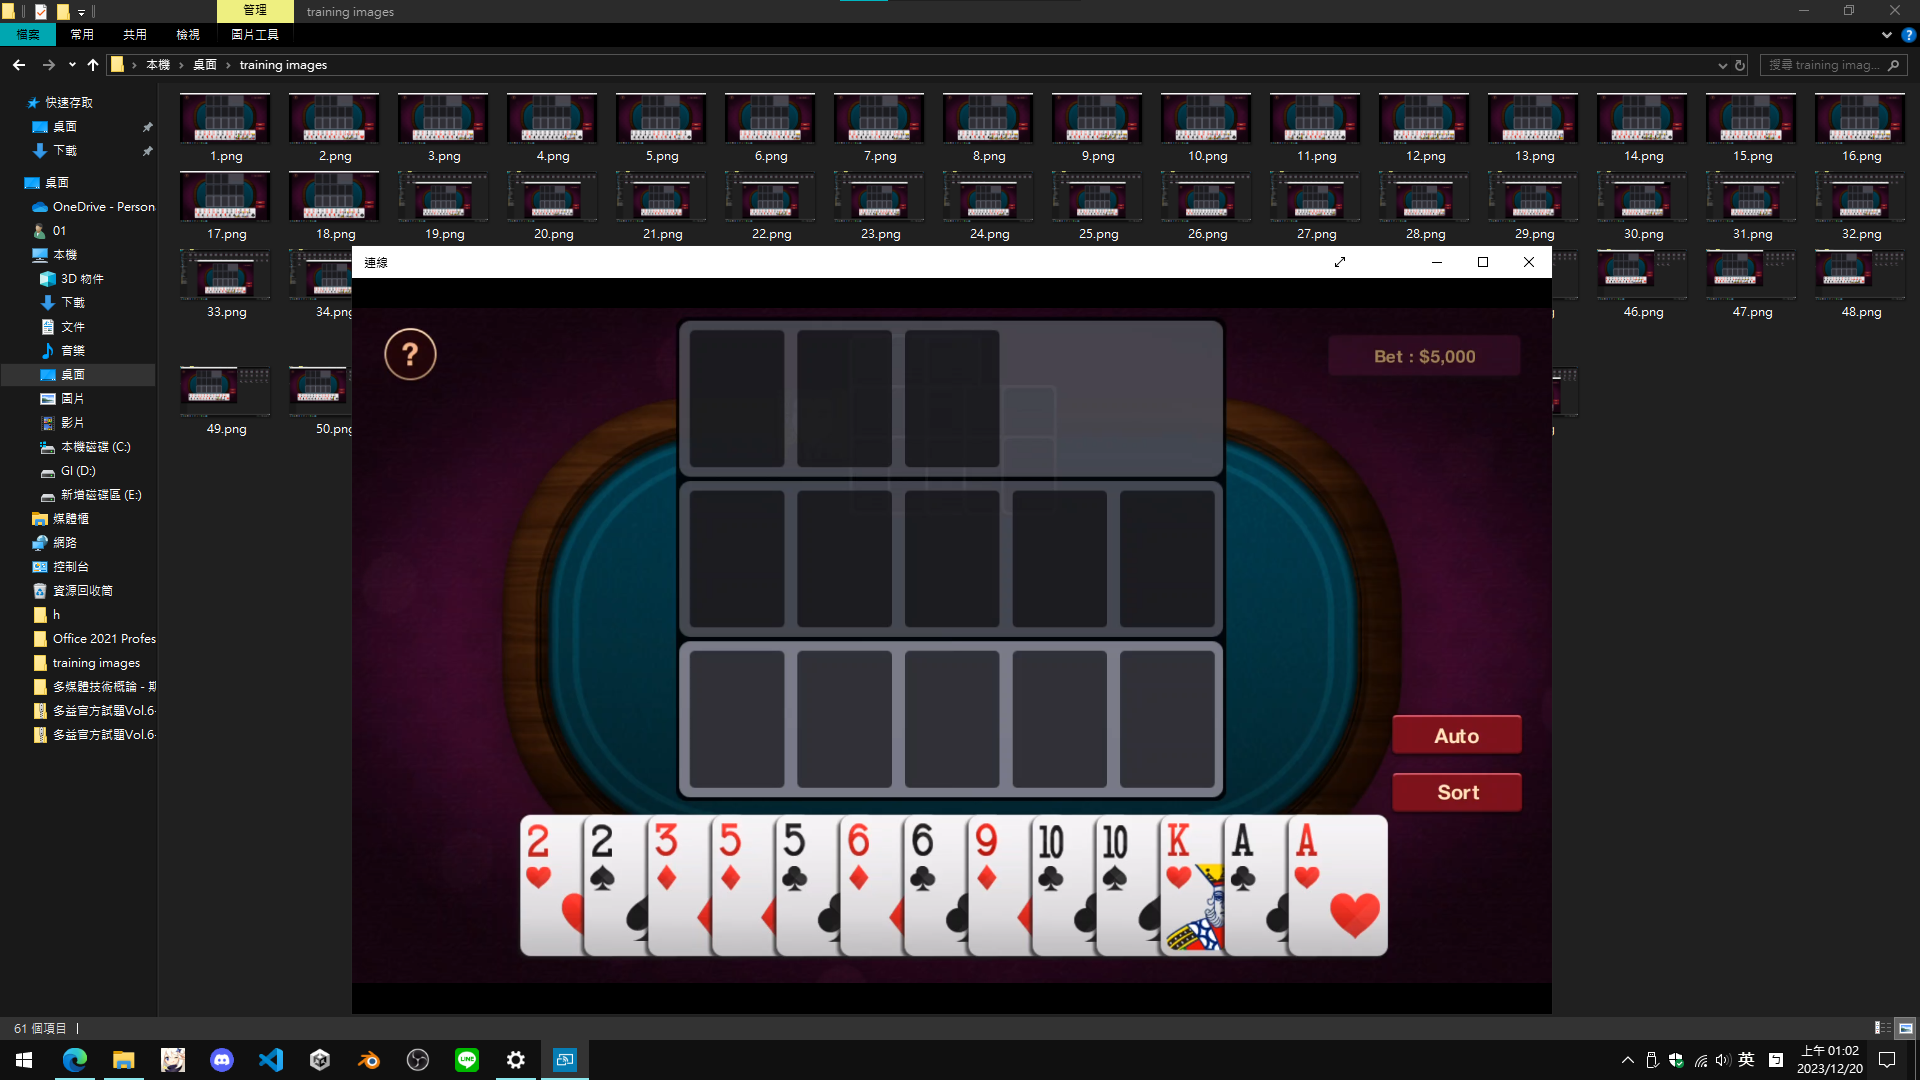10C: (1035, 820, 1067, 895)
10S: (1098, 820, 1129, 894)
2H: (525, 819, 554, 891)
2S: (588, 823, 618, 895)
3D: (653, 820, 682, 895)
5C: (782, 818, 810, 899)
5D: (717, 818, 744, 894)
6C: (909, 820, 939, 895)
6D: (845, 820, 874, 894)
9D: (972, 818, 1001, 895)
AC: (1229, 820, 1259, 894)
AH: (1290, 822, 1323, 893)
KH: (1164, 819, 1195, 893)
